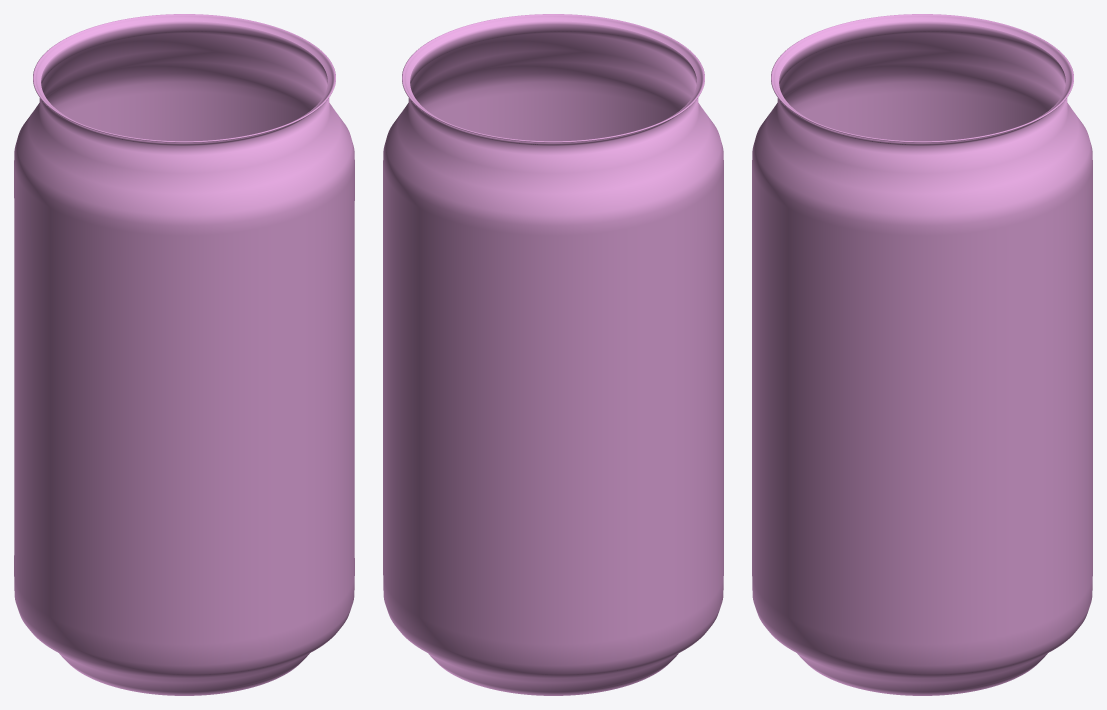
File: coffee-cup.glb
3 views of the same model, side by side, from view 1: azimuth 30°, elevation 25°; view 2: azimuth 150°, elevation 25°; view 3: azimuth 270°, elevation 25° (orthographic).
Parts seen in each view (by area): view 1: Object_1; view 2: Object_1; view 3: Object_1.
Boxes of the visible parts, left/top/right/bottom form: Object_1: left=14, top=14, right=354, bottom=695; Object_1: left=383, top=14, right=723, bottom=695; Object_1: left=752, top=14, right=1092, bottom=695.
Size of the model in its own units: 8.72 by 16.26 by 8.72.
